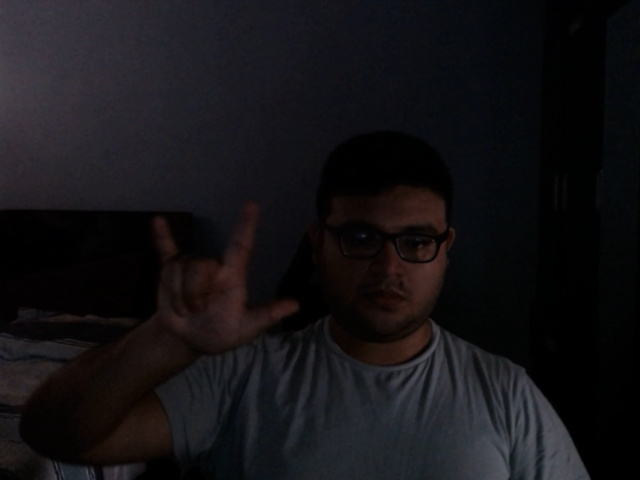I love you: (136, 200, 307, 364)
